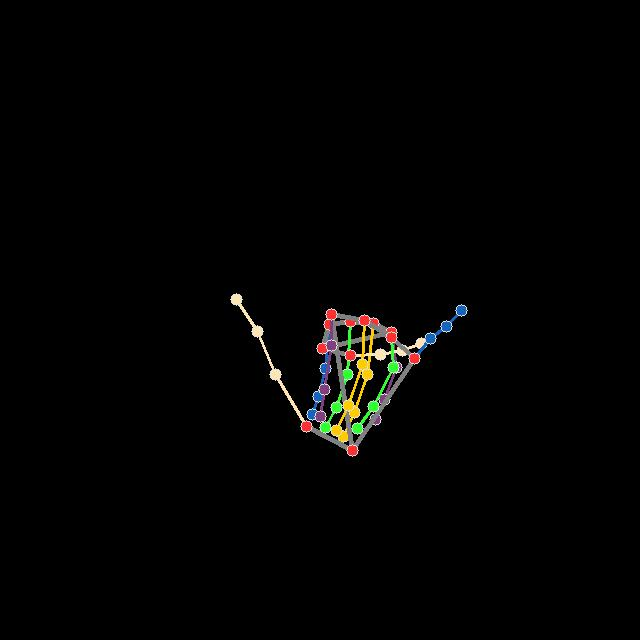skr: (228, 291, 468, 457)
